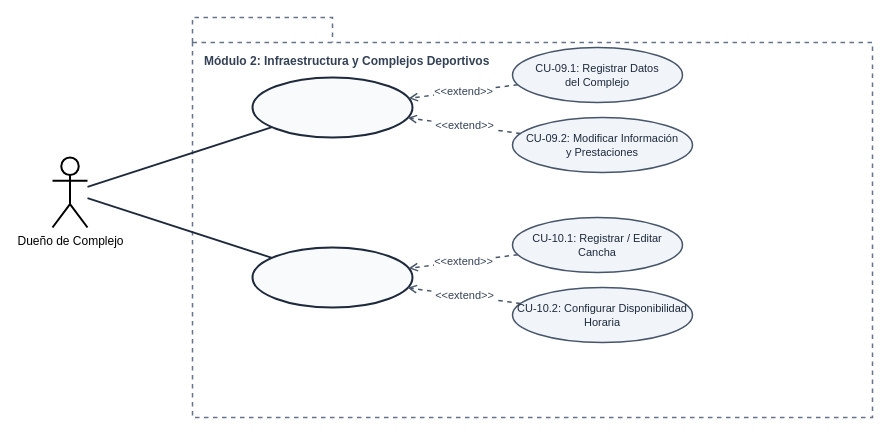
The diagram is 891 pixels wide and 436 high, and some of its shapes have lost their labels. The centre of each missing label's shape, as x and y in pixels:
"CU-09: Gestionar Perfil Comercial" belongs at (x=332, y=107).
"CU-10: Administrar Canchas" belongs at (x=332, y=277).
